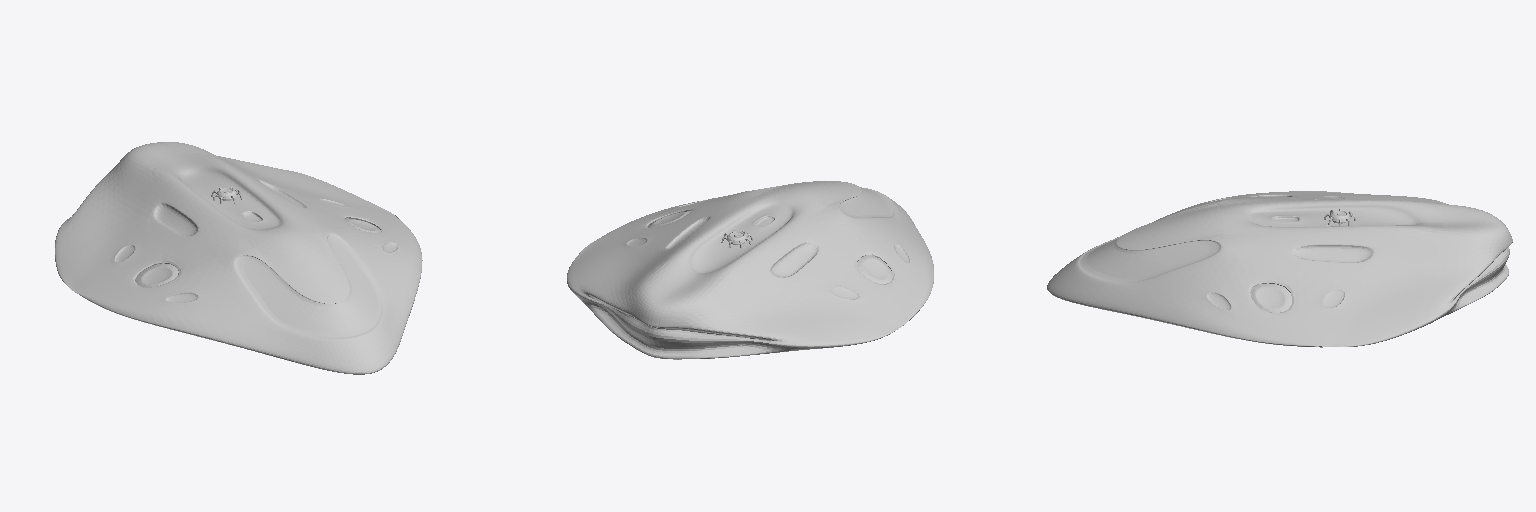
Rendered from Viper.obj.
3 renders of one model, left to right at view 1: azimuth 30°, elevation 25°; view 2: azimuth 150°, elevation 25°; view 3: azimuth 270°, elevation 25°, orthographic.
Bounding box in the file's own units: 283 × 73.34 × 359.